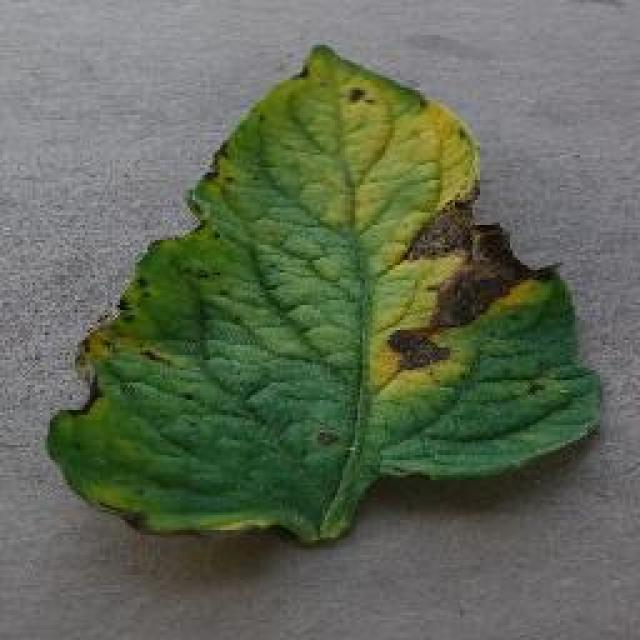Tomato Early blight leaf: (60, 49, 595, 556)
